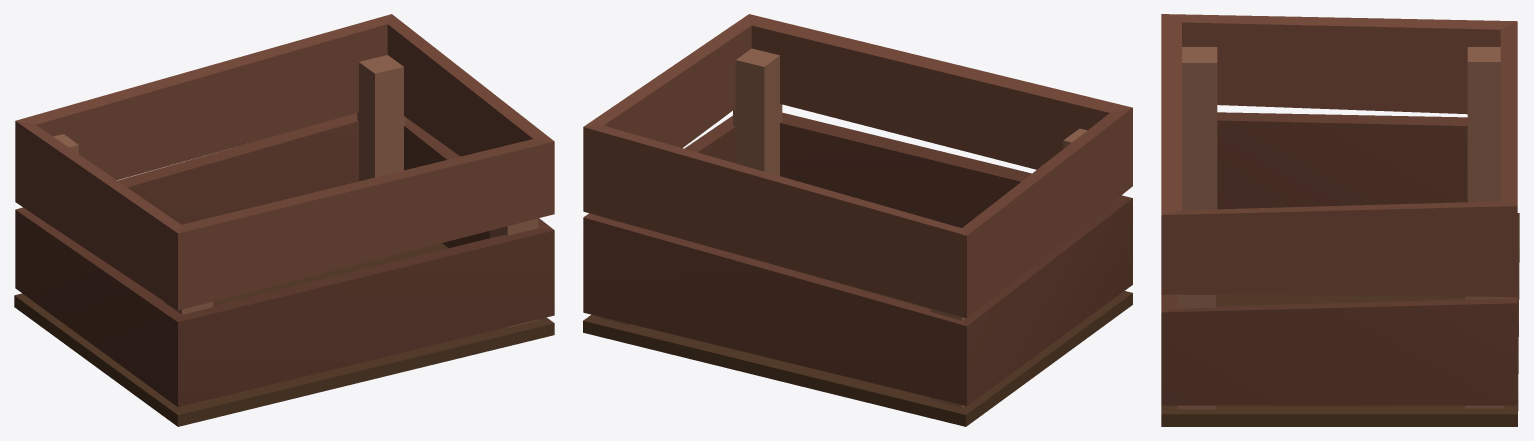
Rendered from Drawer 2.glb.
3 renders of one model, left to right at view 1: azimuth 30°, elevation 25°; view 2: azimuth 150°, elevation 25°; view 3: azimuth 270°, elevation 25°, orthographic. The views are drawn at different scales.
Visible parts, largest first — view 1: Drawer 2; view 2: Drawer 2; view 3: Drawer 2.
Boxes of the visible parts, left/top/right/bottom form: Drawer 2: left=14, top=14, right=554, bottom=426; Drawer 2: left=583, top=14, right=1132, bottom=426; Drawer 2: left=1161, top=14, right=1519, bottom=426.
Size of what is drawn, in the model's own units: 0.6161 by 0.3154 by 0.4641.
1 material, 1 textured.
